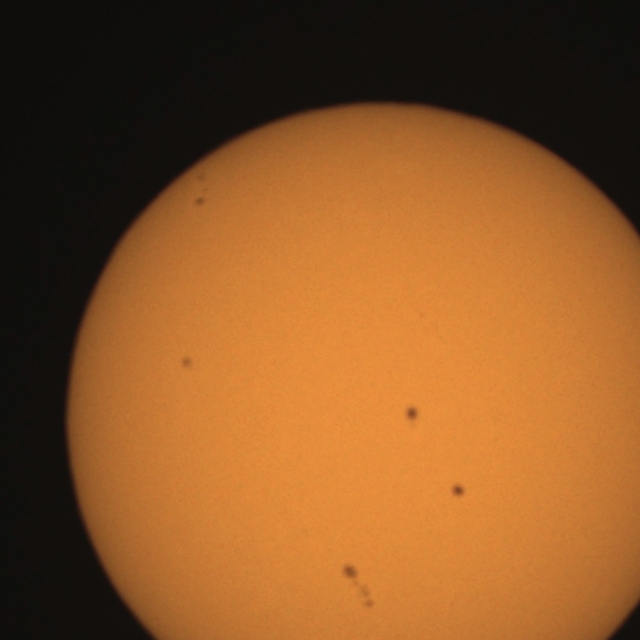sunspot: (341, 560, 376, 612), (340, 562, 360, 583), (192, 185, 209, 209), (449, 482, 467, 500), (404, 405, 420, 424), (179, 354, 195, 372)
